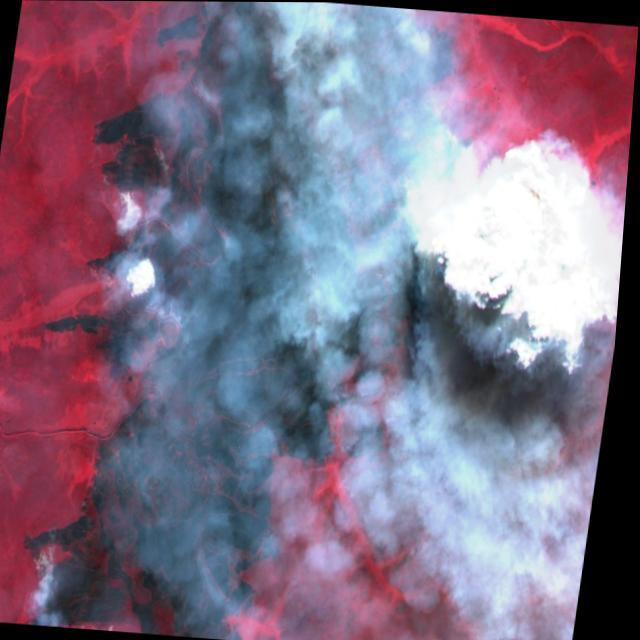fire: (61, 68, 207, 317), (382, 106, 491, 242), (16, 492, 103, 595)
